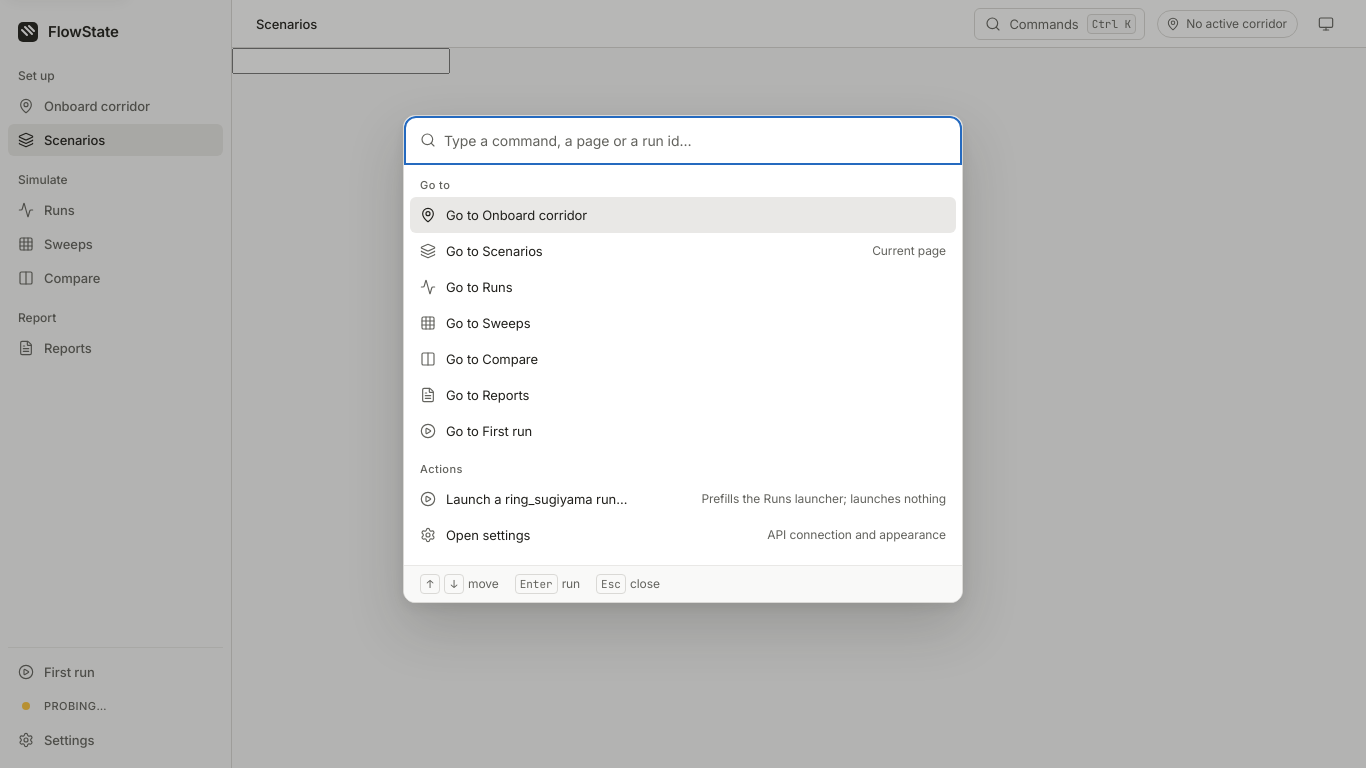
command palette: keyboard model › says when nothing matches and collapses the listbox
Type "zzqx" into the dropdown named "Search commands" at {"x": 695, "y": 140}, box [444,120,946,160]
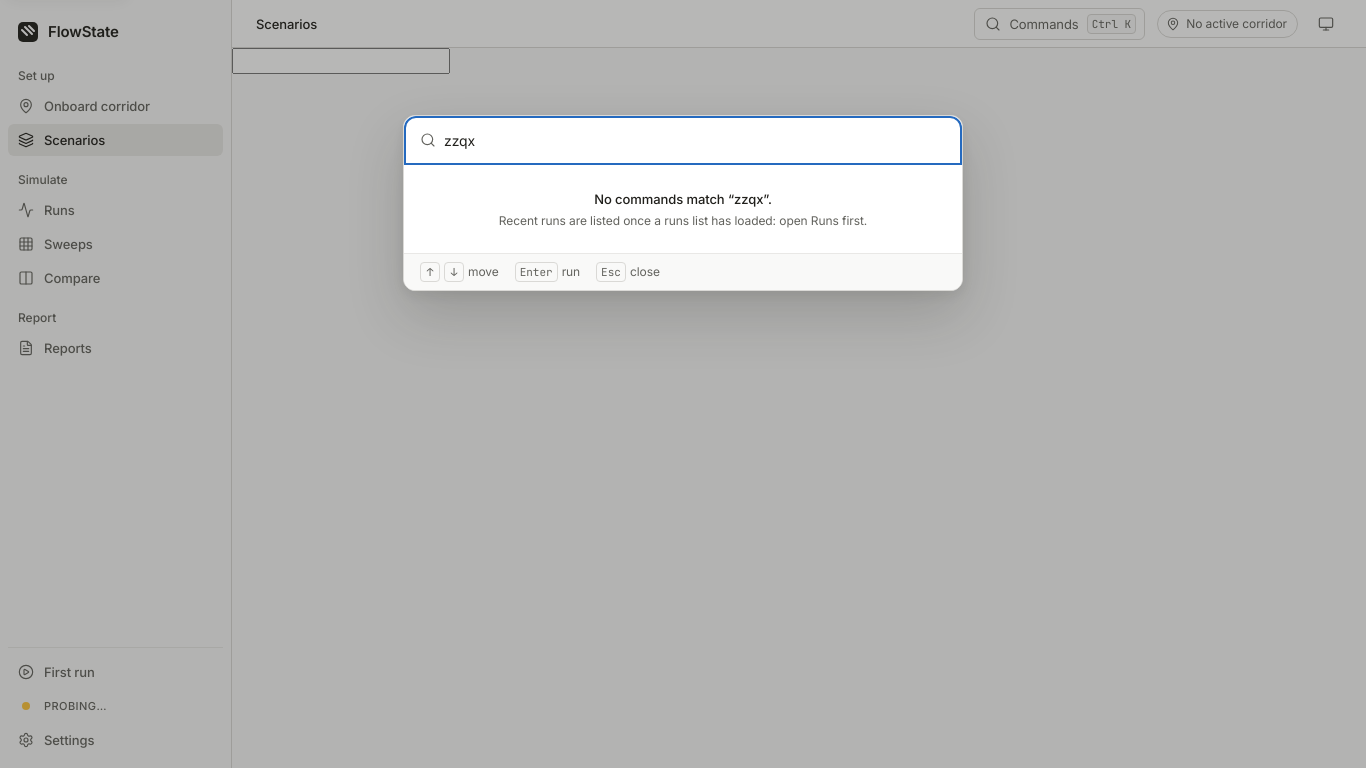
Now the text "No commands match “zzqx”." is shown, box [594,191,772,207]
Now the dropdown named "Search commands" is collapsed
Press Enter in the dropdown named "Search commands", box [444,120,946,160]
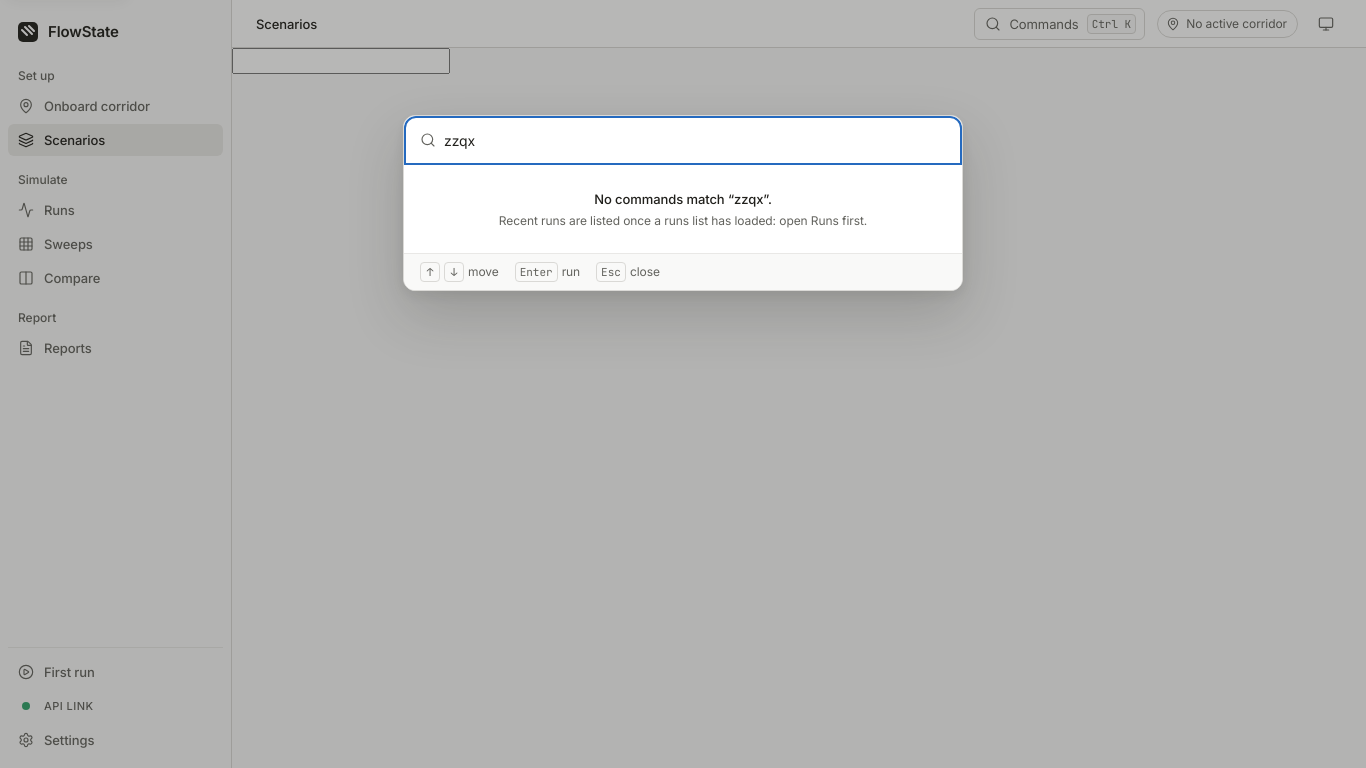
Expected: the dialog named "Command menu" is shown, [403,115,963,291]
Now the text "API LINK" is shown, box [44,698,93,714]
